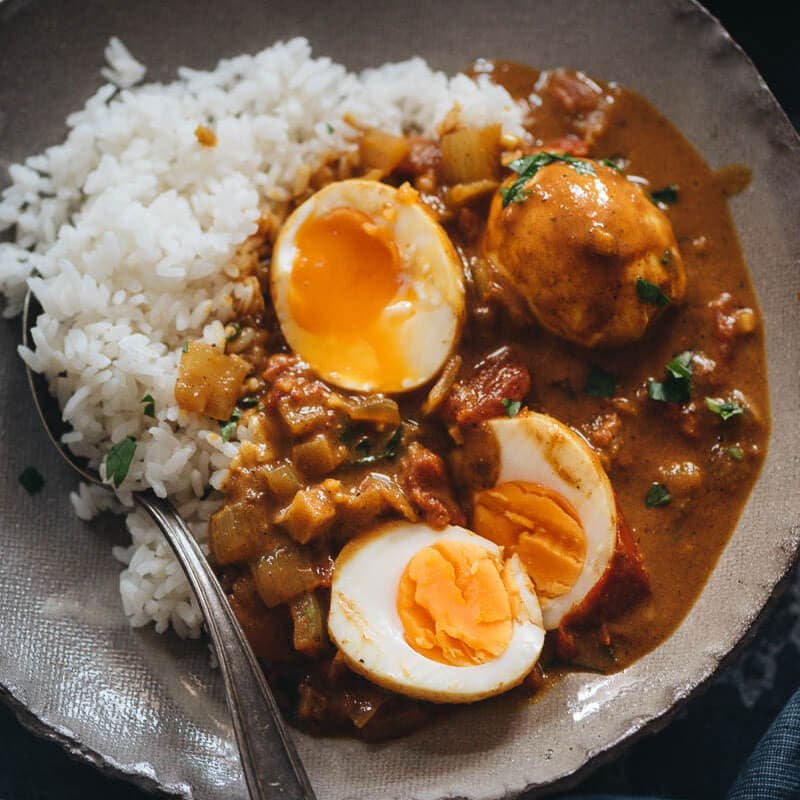curry: (186, 344, 456, 567)
egg: (275, 176, 473, 402), (310, 510, 550, 696), (481, 152, 694, 349), (444, 412, 616, 637)
rice: (25, 58, 253, 453)
